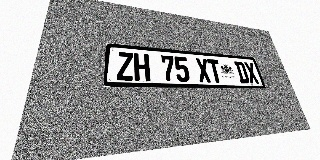5: (174, 56, 191, 82)
7: (160, 55, 177, 82)
D: (234, 61, 250, 83)
H: (134, 53, 150, 81)
T: (207, 59, 223, 83)
X: (195, 58, 212, 83), (244, 62, 260, 84)
Z: (117, 52, 134, 81)
